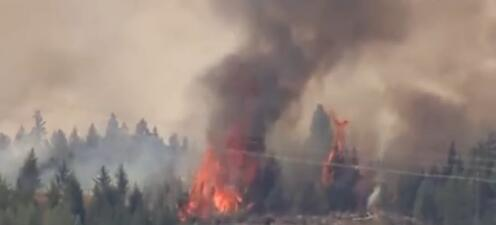fire: (178, 126, 257, 214), (318, 103, 348, 188)
yanwu: (181, 0, 486, 202)
